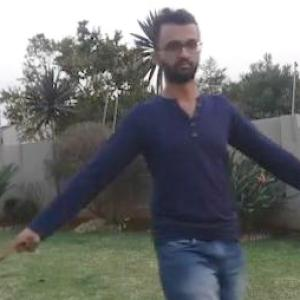land: (43, 41, 300, 299)
